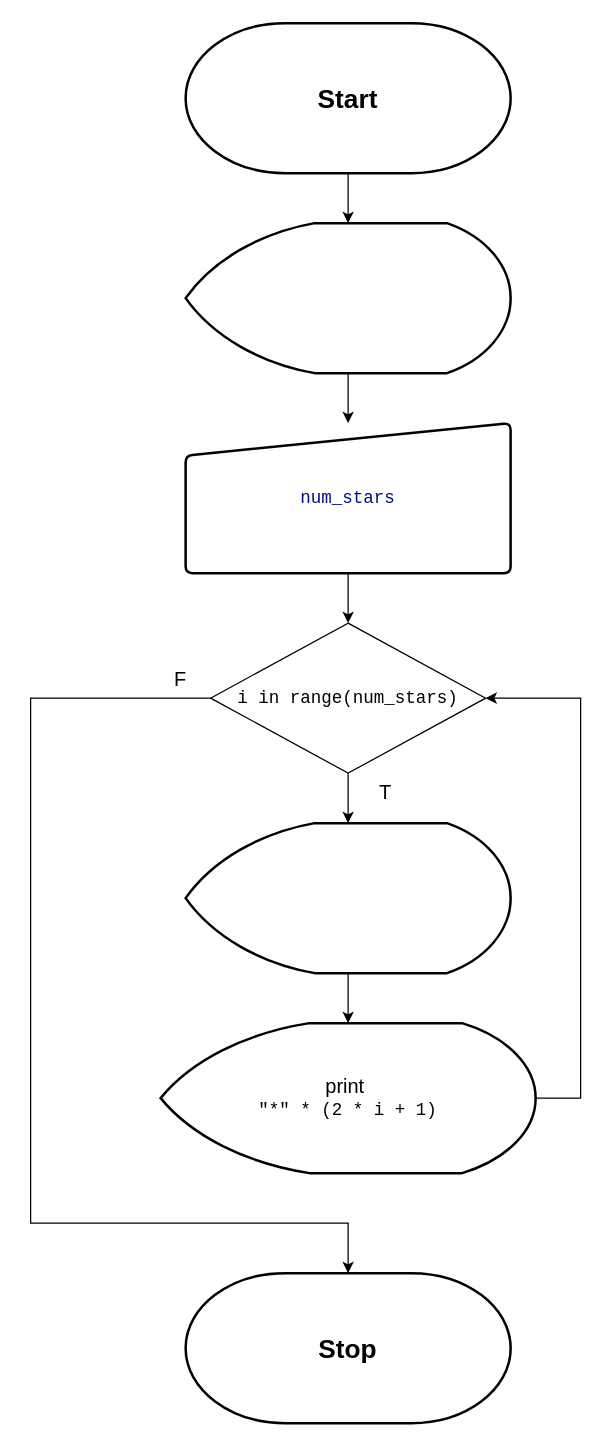
Image size: 613x1445. Some labels were removed from this diagram. Each missing label, with the centre of its shape:
print " " * (num_stars - i - 1): (347,897)
print " ใส่จำนวนแถว: ": (347,297)
